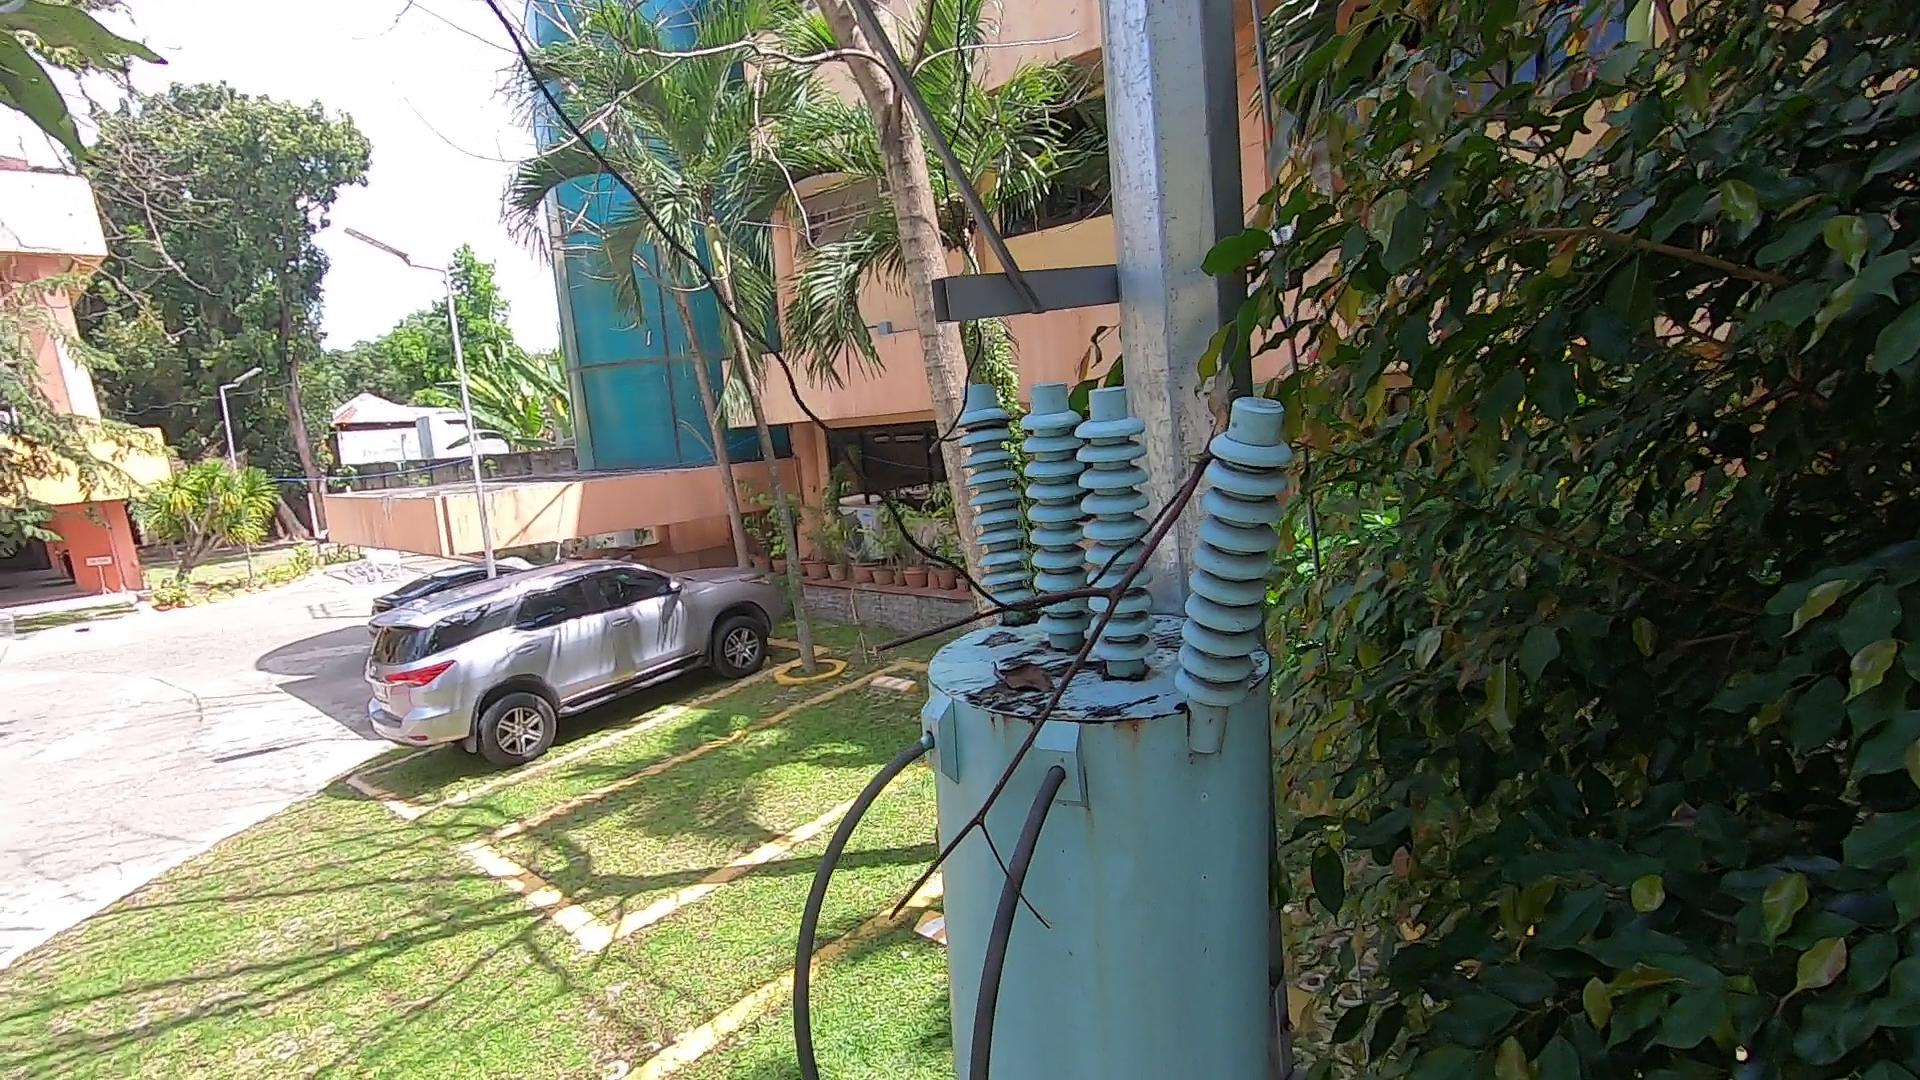leaf: (977, 653, 1065, 713)
tree branch: (847, 398, 1222, 945)
